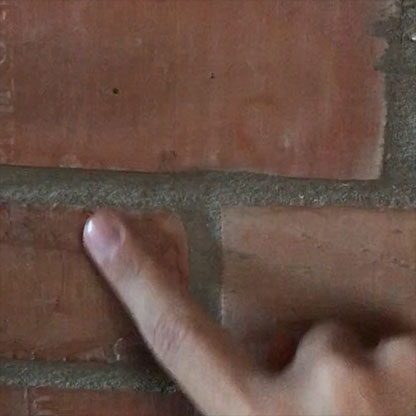fingertip: (74, 205, 141, 269)
